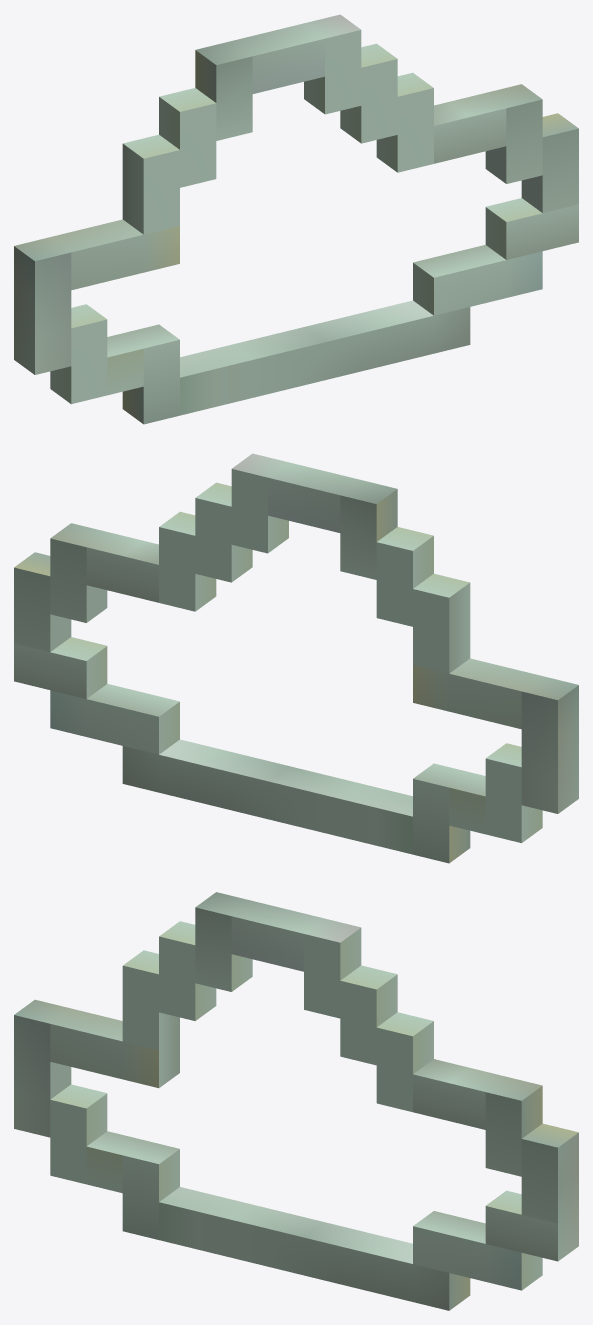
File: WallDecorCloudOutlineSmall_00.fbx
3 renders of one model, top to bottom at view 1: azimuth 30°, elevation 25°; view 2: azimuth 150°, elevation 25°; view 3: azimuth 330°, elevation 25°, orthographic.
Parts seen in each view (by area): view 1: WallDecorCloudOutlineSmall_00; view 2: WallDecorCloudOutlineSmall_00; view 3: WallDecorCloudOutlineSmall_00.
Boxes of the visible parts, x1,y1,x2,y2 form: WallDecorCloudOutlineSmall_00: (14, 14, 578, 424); WallDecorCloudOutlineSmall_00: (14, 453, 578, 863); WallDecorCloudOutlineSmall_00: (14, 892, 578, 1310).
Bounding box in the file's own units: 75 × 5 × 45.
Materials: 1 (1 with a texture image).
